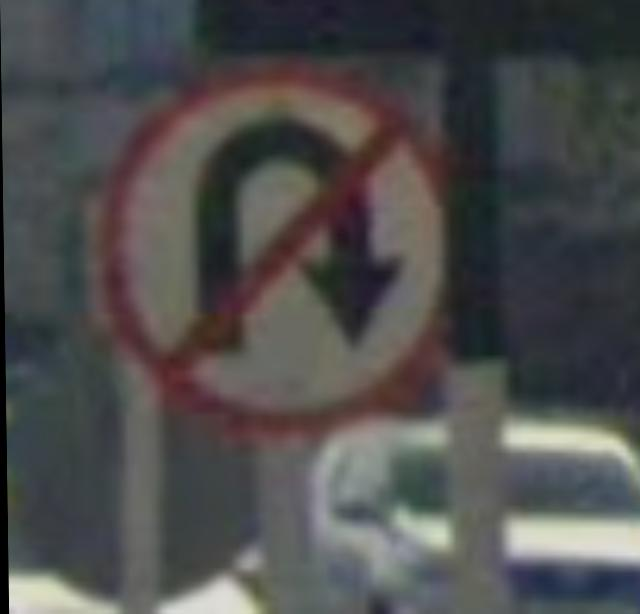not_u_turn_right: (88, 65, 472, 450)
